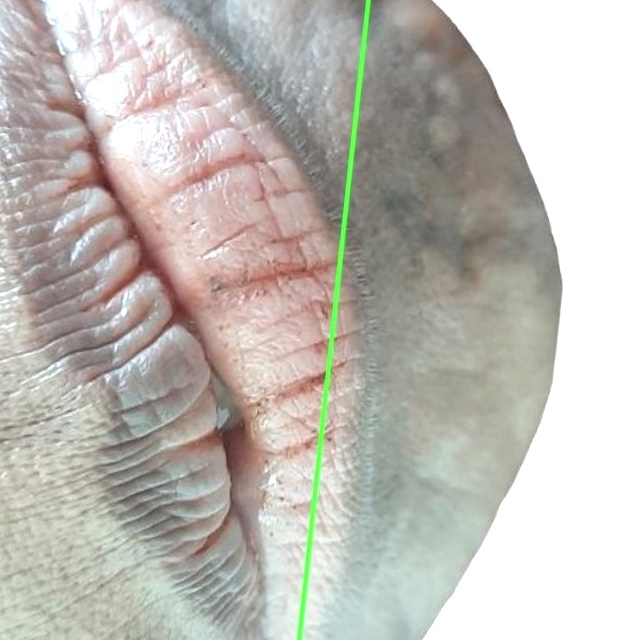Eczema: (300, 0, 639, 639)
